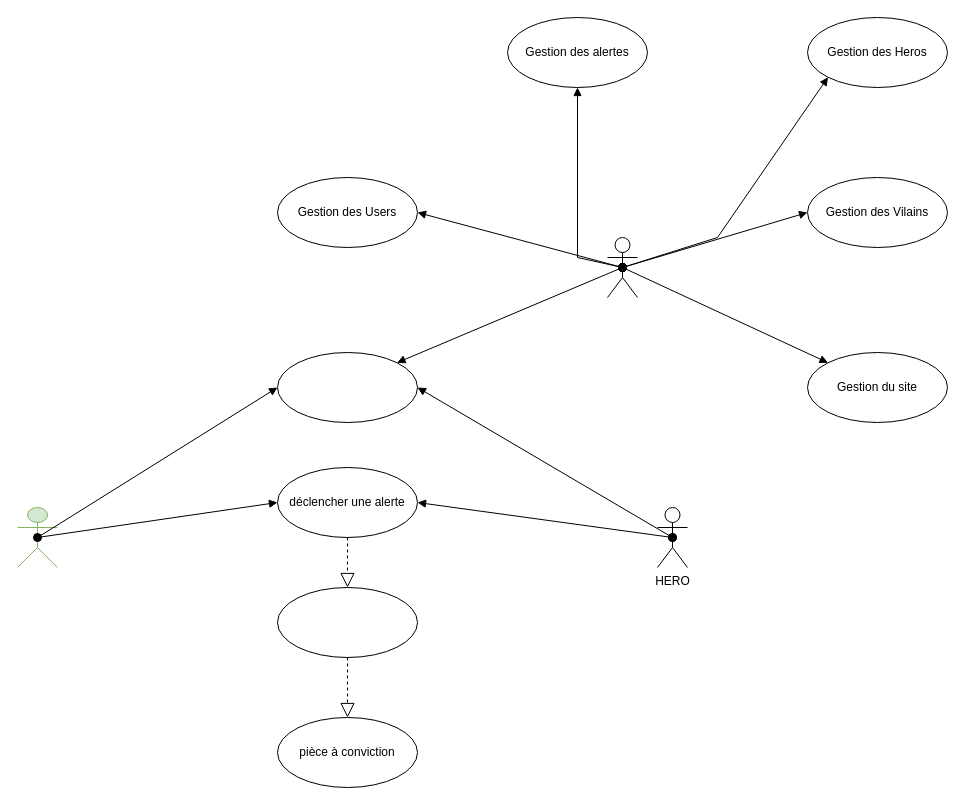
Some shapes in this 965 by 805 pixel diagram are drawn without their labels. Each missing label, with the box of its shape:
ADMIN: (606, 236, 638, 298)
consulter le site: (276, 352, 418, 422)
donner un avis: (276, 586, 418, 658)
USER: (16, 506, 58, 568)
